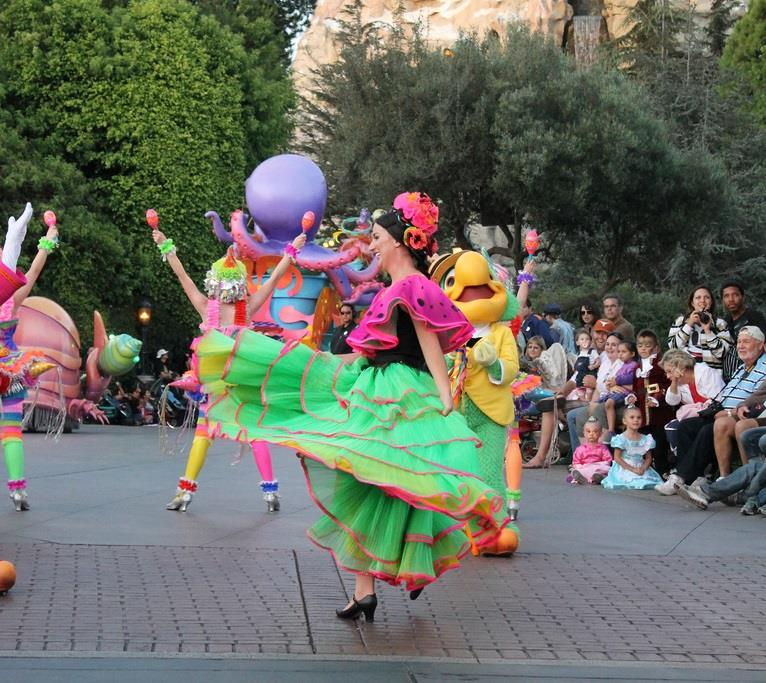Jose_Carioca: (420, 232, 558, 538)
